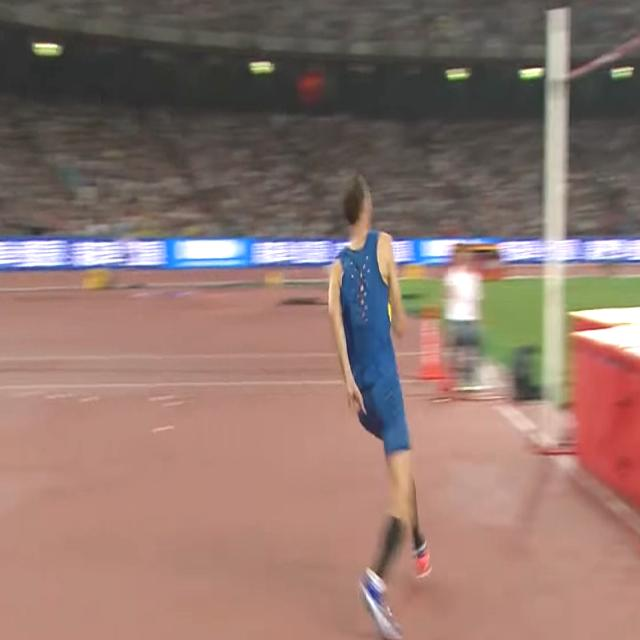run: (327, 175, 430, 640)
